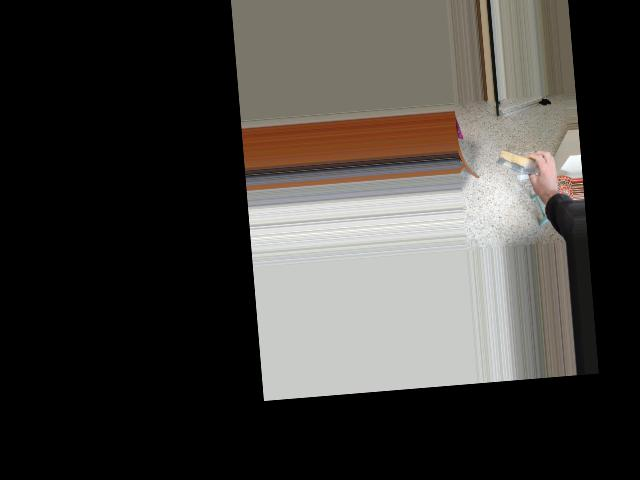cheese: (492, 142, 549, 182)
